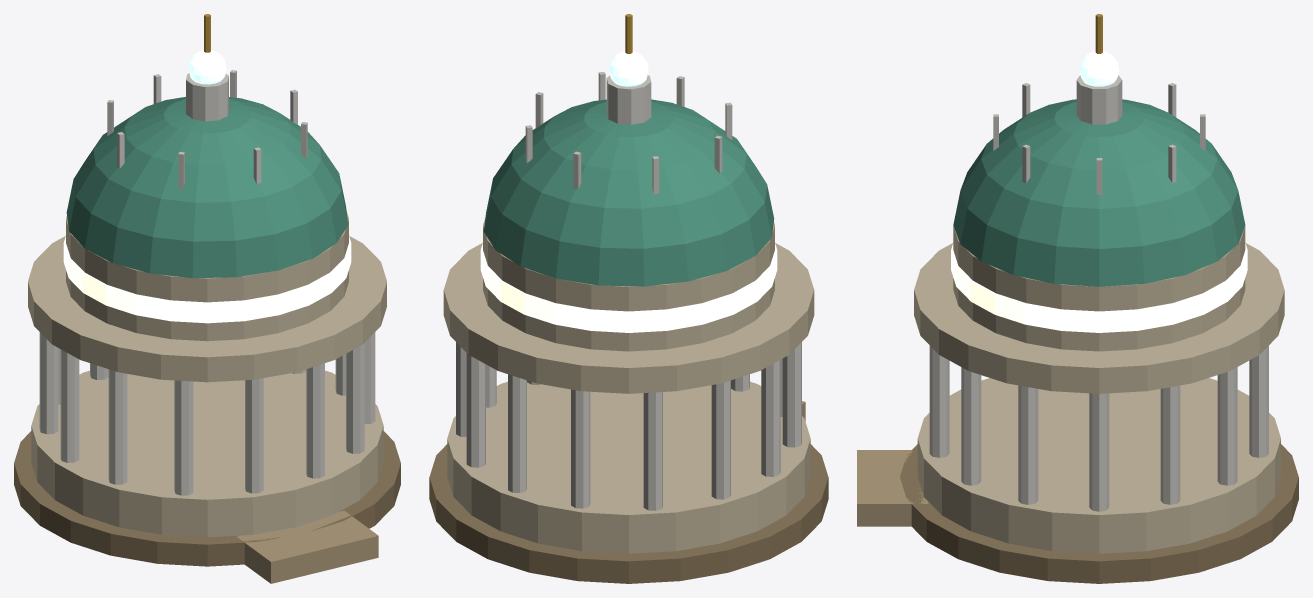
Rendered from rds-dome.glb.
The picture shows the model from 3 angles, left to right: view 1: azimuth 30°, elevation 25°; view 2: azimuth 150°, elevation 25°; view 3: azimuth 270°, elevation 25°; orthographic projection. The views are drawn at different scales.
Parts seen in each view (by area): view 1: cw_paint, cw_glow, cw_neon; view 2: cw_paint, cw_glow, cw_neon; view 3: cw_paint, cw_glow, cw_neon.
Boxes of the visible parts, x1,y1,x2,y2 form: cw_paint: [14, 14, 400, 583]; cw_glow: [63, 236, 351, 323]; cw_neon: [188, 49, 226, 84]; cw_paint: [429, 14, 828, 583]; cw_glow: [480, 243, 777, 332]; cw_neon: [609, 51, 648, 86]; cw_paint: [857, 14, 1298, 583]; cw_glow: [951, 243, 1247, 332]; cw_neon: [1079, 51, 1119, 86].
Bounding box in the file's own units: 5.6 × 7.5 × 6.2.
